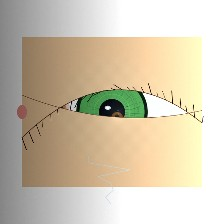foreign_body_visible: (100, 104, 134, 132)
